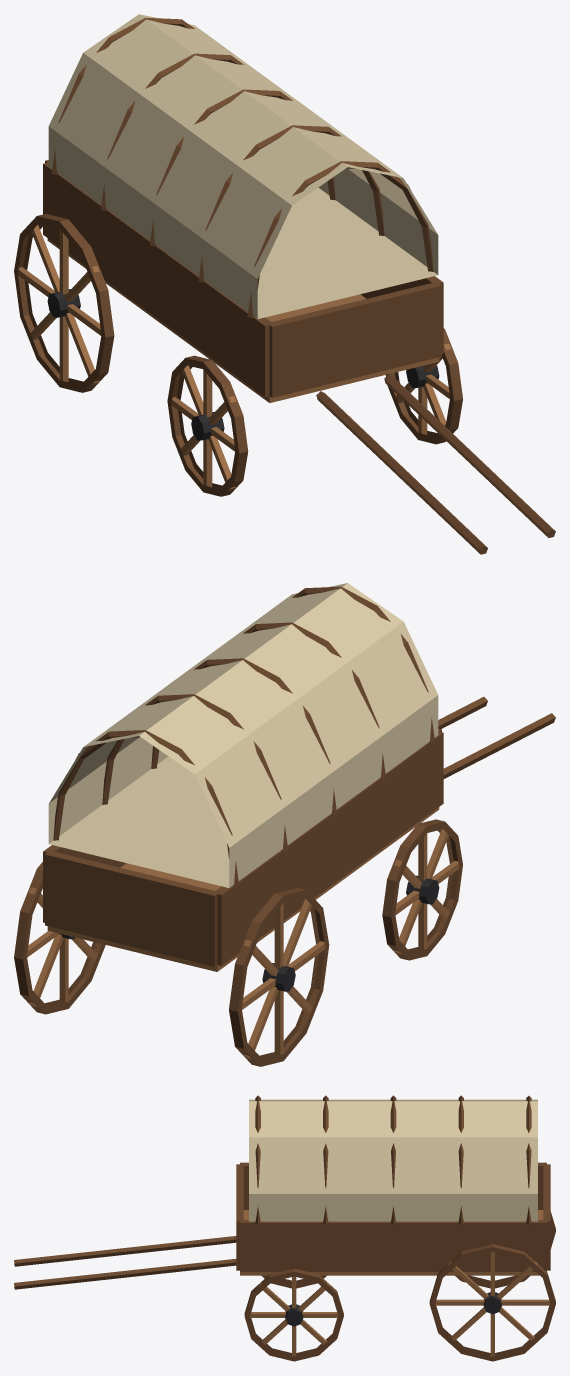
Rendered from SM_Wagon.fbx.
The picture shows the model from 3 angles, top to bottom: view 1: azimuth 30°, elevation 25°; view 2: azimuth 150°, elevation 25°; view 3: azimuth 270°, elevation 25°; orthographic projection. The views are drawn at different scales.
Visible parts, largest first — view 1: Wagon; view 2: Wagon; view 3: Wagon.
Boxes of the visible parts, x1,y1,x2,y2 form: Wagon: (14,14,555,554); Wagon: (14,583,555,1066); Wagon: (14,1095,555,1361).
Size of the model in its own units: 208 by 600 by 273.
